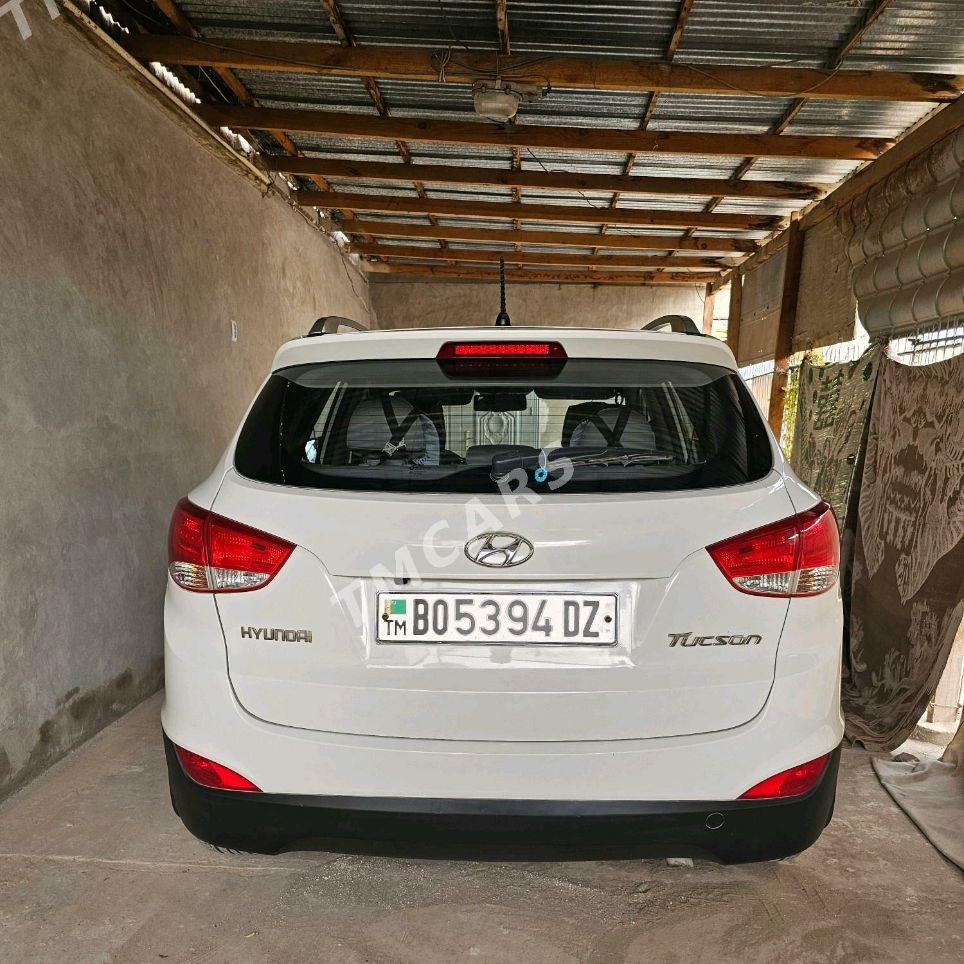license plate: (376, 590, 622, 645)
truck: (133, 312, 855, 884)
